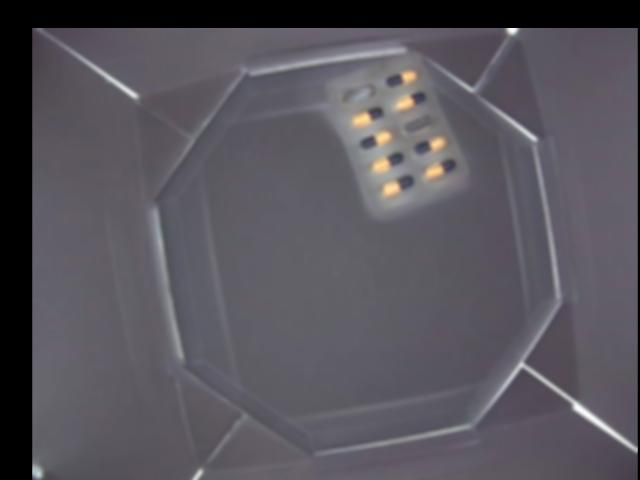Medicine: (323, 50, 471, 219)
